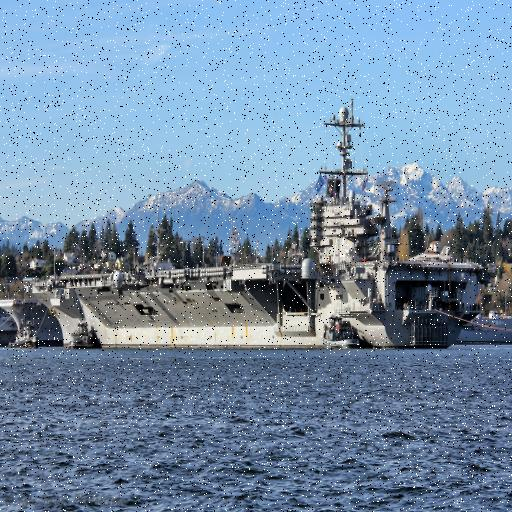Portanaves: (27, 92, 485, 351)
